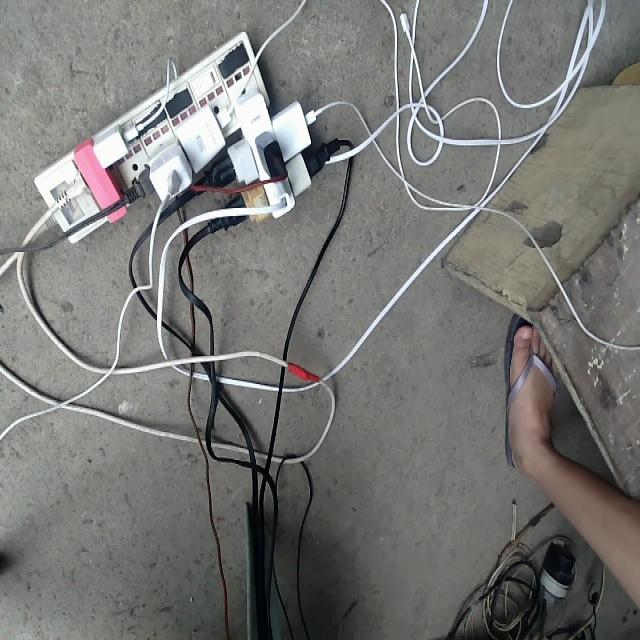-: (32, 30, 323, 246)
